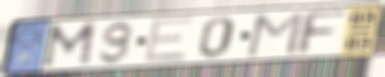0: (195, 16, 237, 60)
9: (96, 20, 136, 65)
E: (142, 15, 197, 66)
F: (296, 9, 350, 57)
M: (243, 10, 307, 59), (39, 20, 100, 71)
